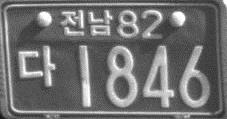1: (75, 42, 93, 110)
2: (141, 8, 166, 40)
4: (142, 44, 174, 109)
6: (177, 43, 211, 108)
8: (105, 44, 138, 107), (116, 8, 139, 40)
다: (16, 44, 55, 87)
전남_O: (59, 8, 113, 38)
